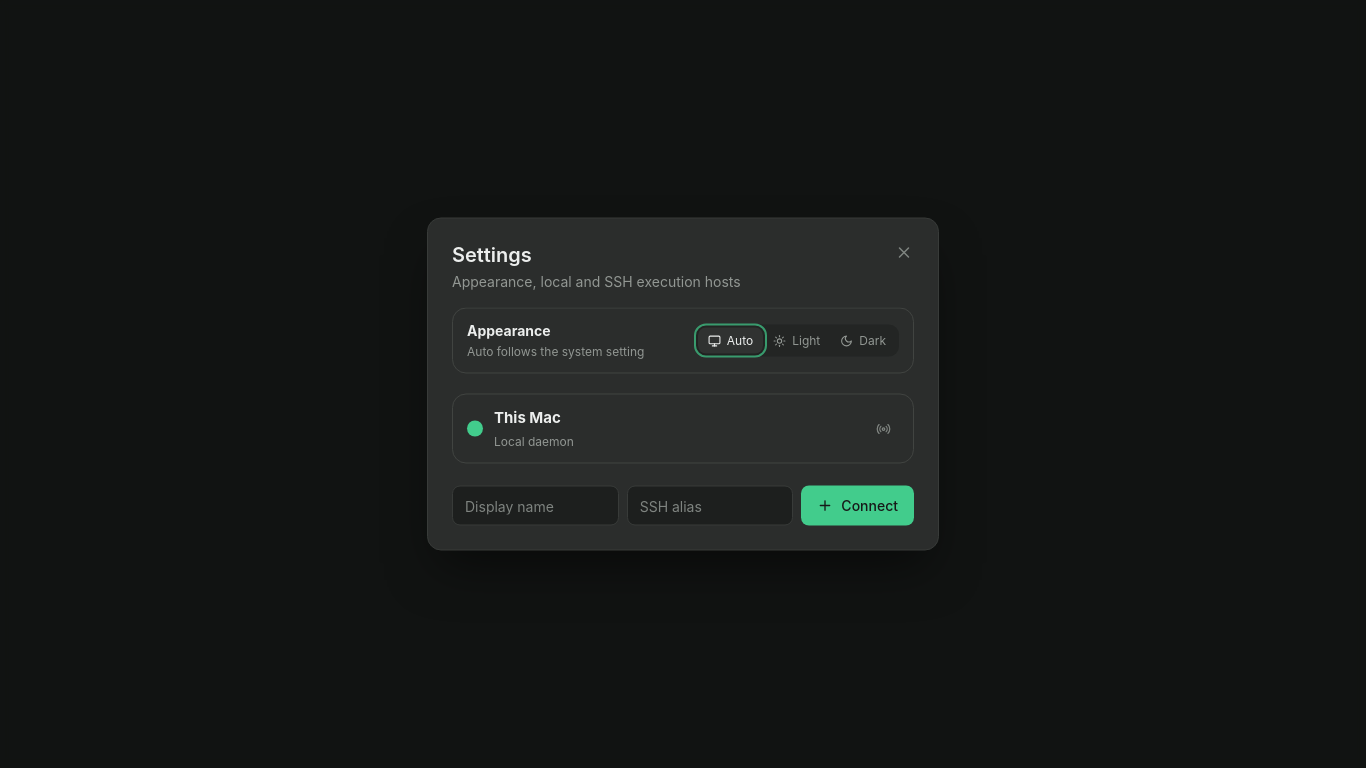
Test: ConnectionsDialog › surfaces a discovery failure to the user
Click the button named "Discover running agents": x=883, y=428 top-left (867, 412), bottom-right (899, 444)
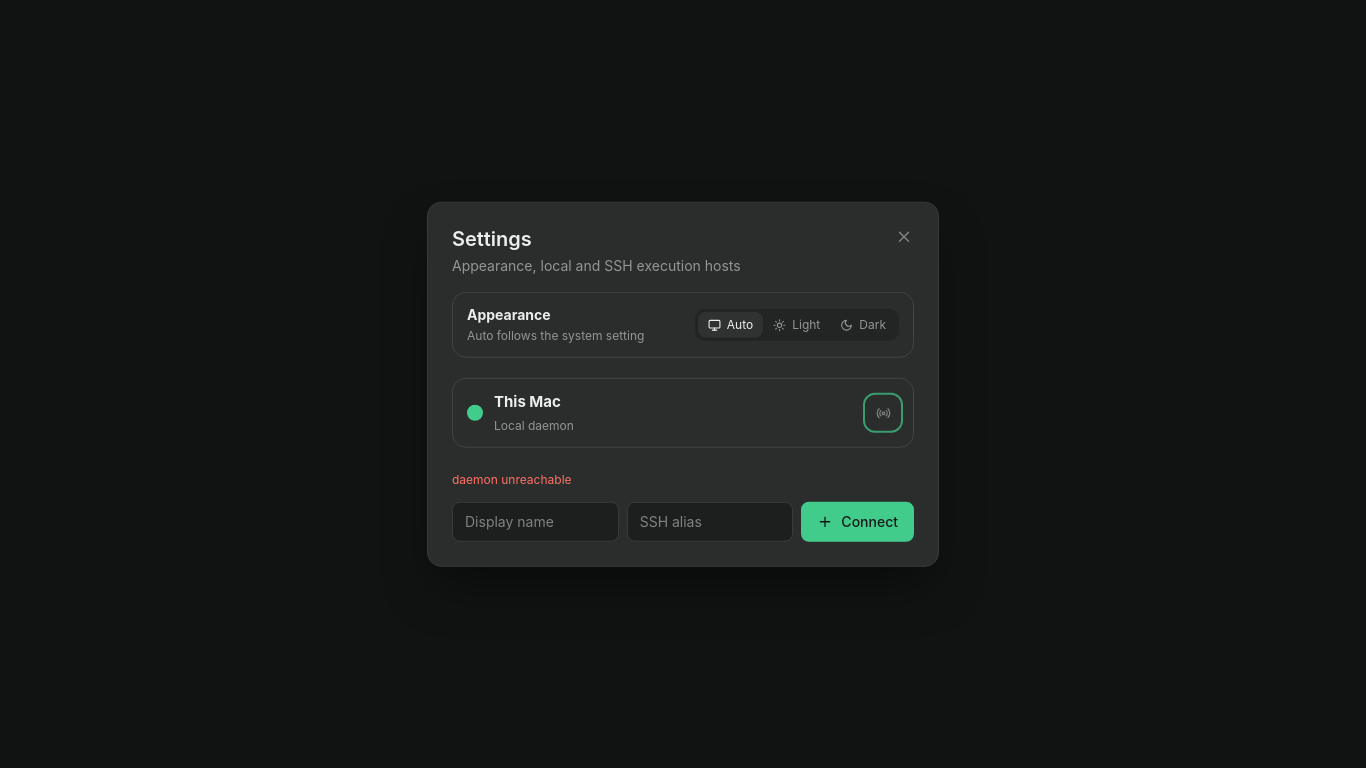
Expected: the text "daemon unreachable" is shown, top-left (452, 472), bottom-right (572, 487)
